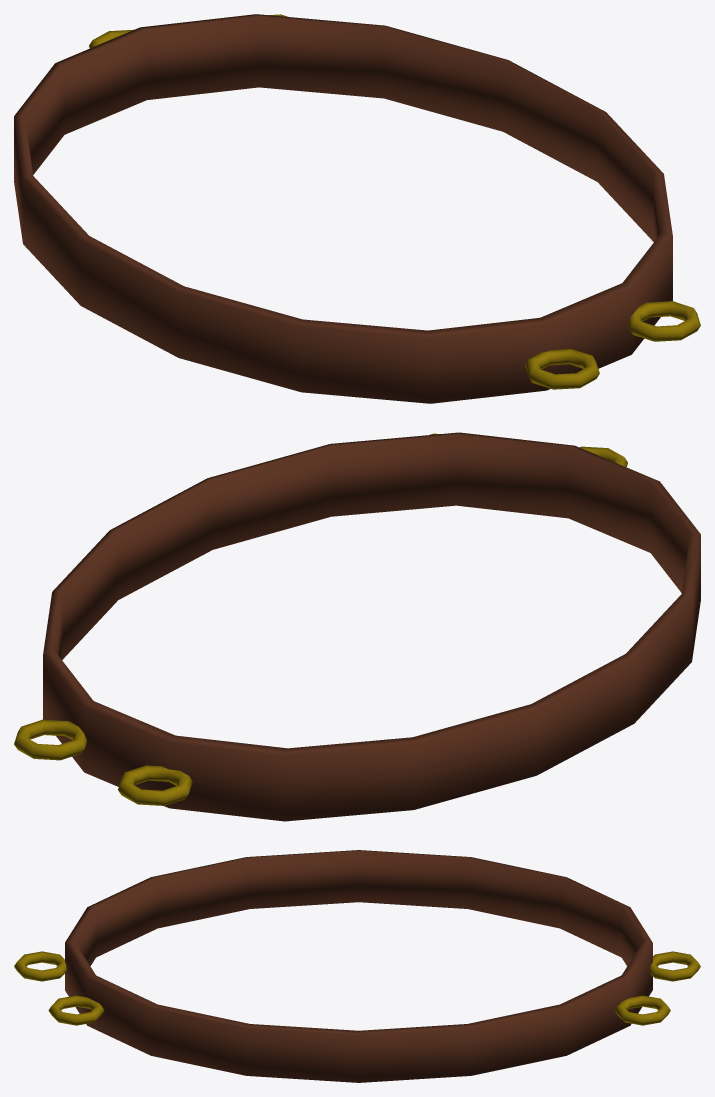
The model's file is Belt_Template.fbx.
3 renders of one model, top to bottom at view 1: azimuth 30°, elevation 25°; view 2: azimuth 150°, elevation 25°; view 3: azimuth 270°, elevation 25°, orthographic. The views are drawn at different scales.
Parts seen in each view (by area): view 1: Cylinder; view 2: Cylinder; view 3: Cylinder.
Boxes of the visible parts, x1,y1,x2,y2 form: Cylinder: [14, 14, 700, 403]; Cylinder: [14, 432, 700, 821]; Cylinder: [14, 850, 700, 1082].
Bounding box in the file's own units: 128 × 16.38 × 201.
